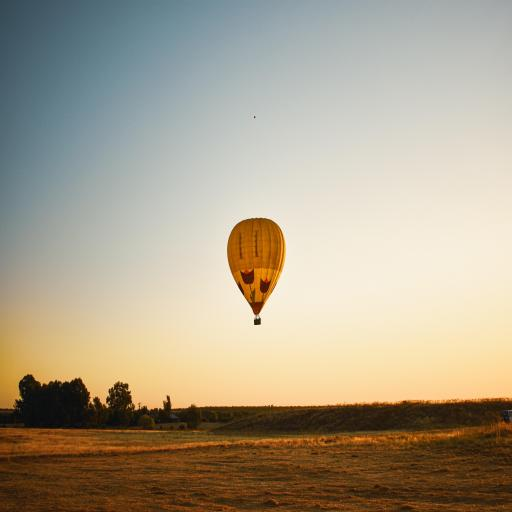hot air ballon: (227, 218, 286, 325)
